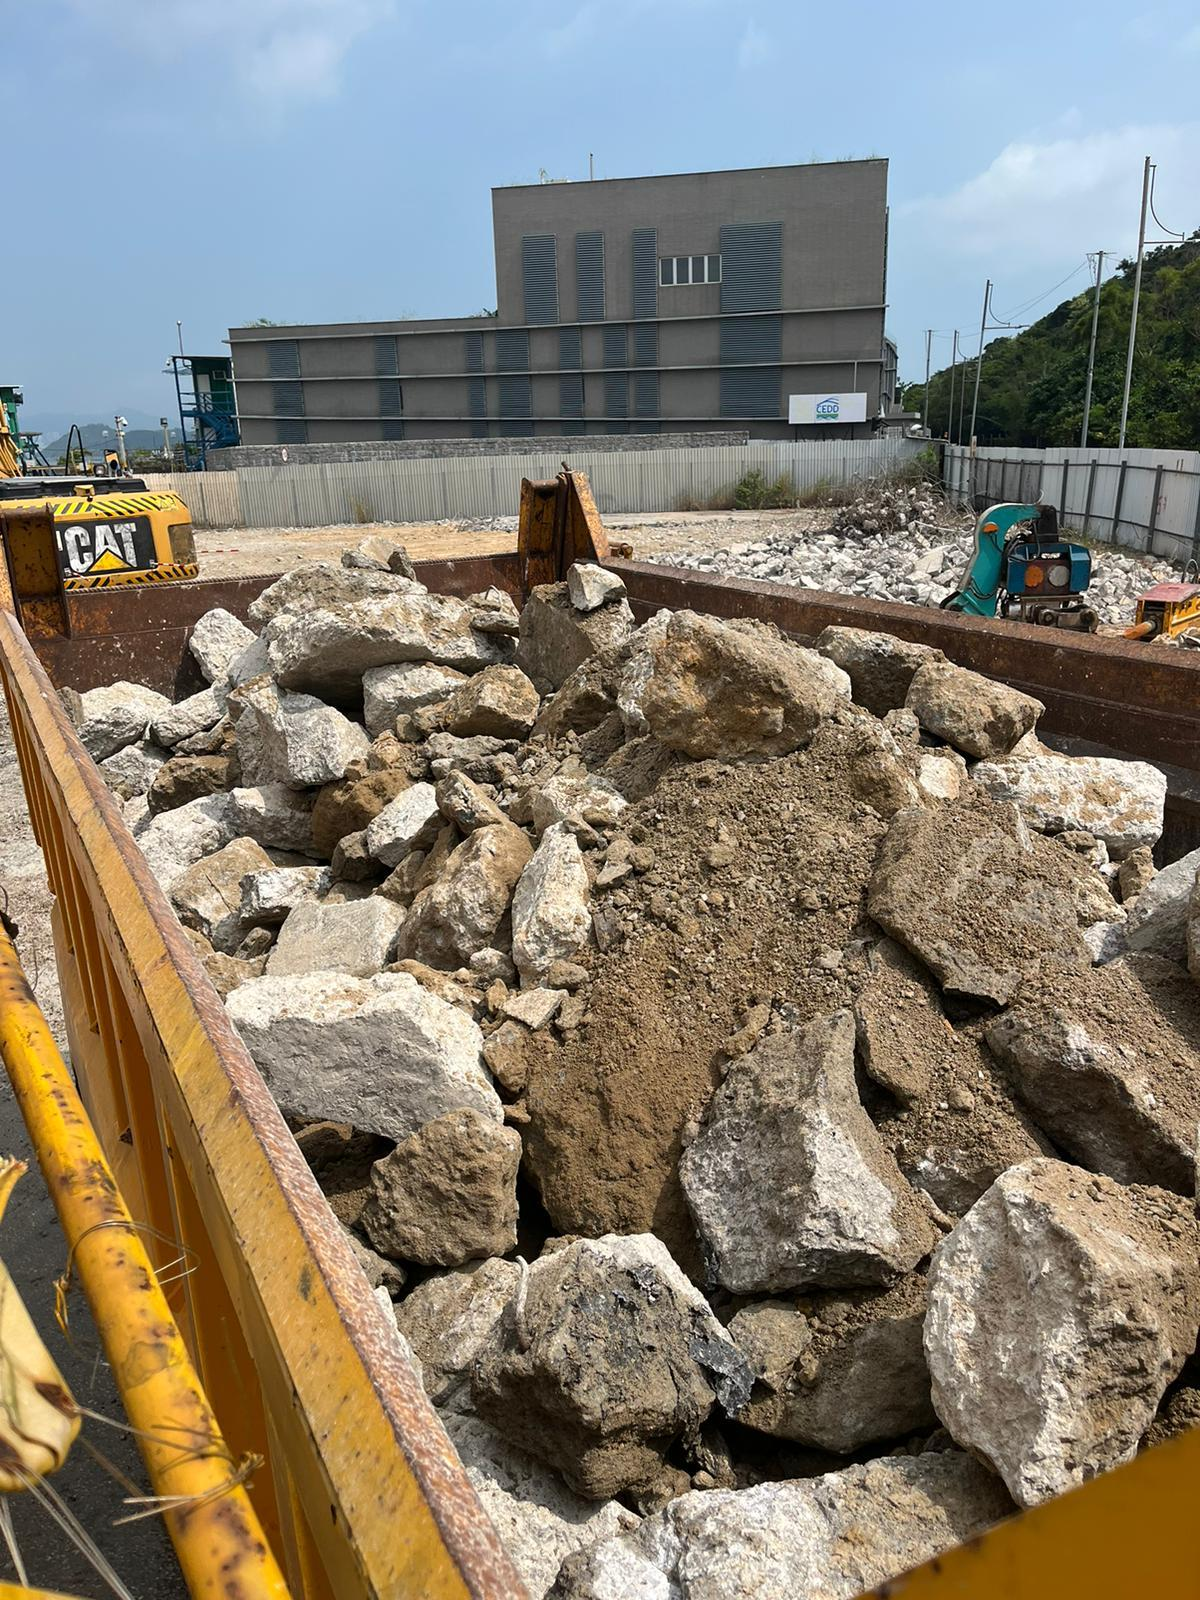dry: (105, 540, 1182, 1600)
